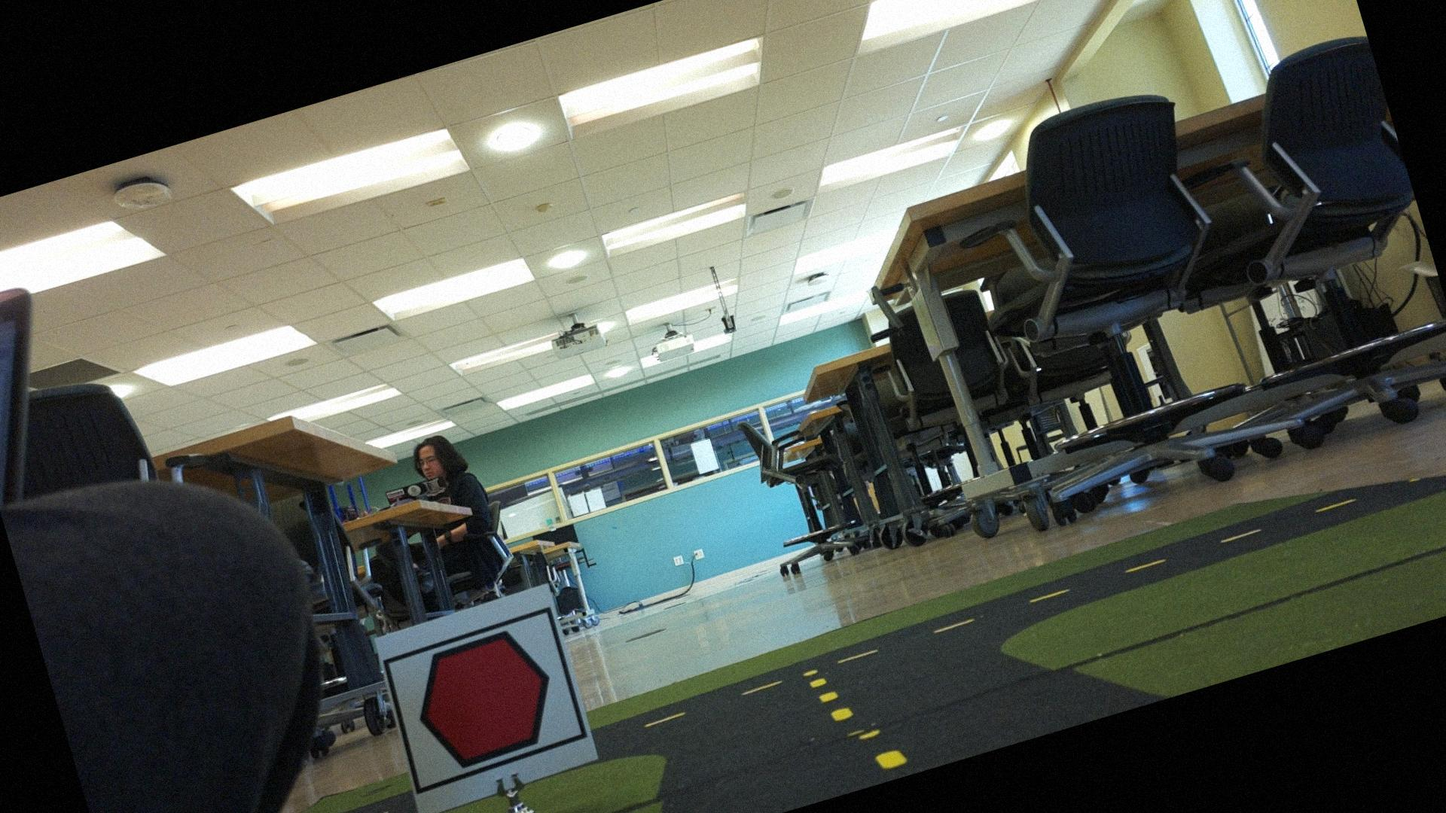stop: (389, 614, 580, 782)
yellowline: (805, 651, 908, 788)
